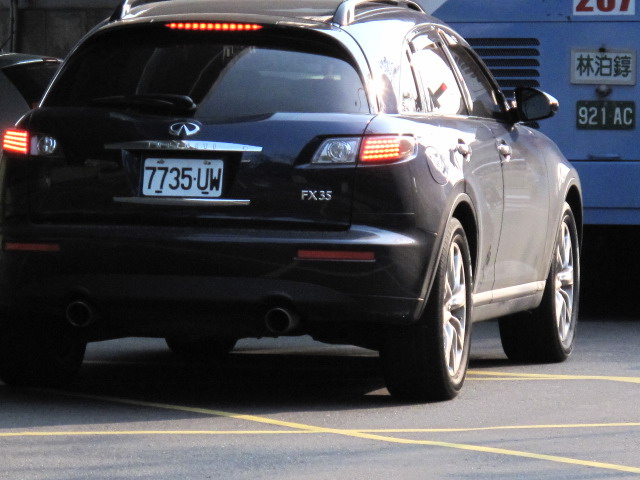plate: (139, 155, 226, 199), (574, 97, 637, 131)
